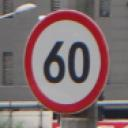speed_limit_60: (24, 8, 110, 112)
